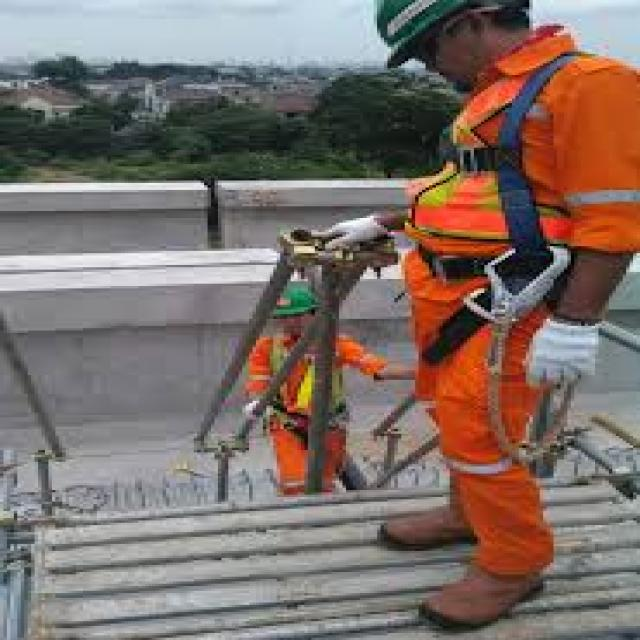shoes: (399, 559, 576, 634), (363, 497, 485, 551)
